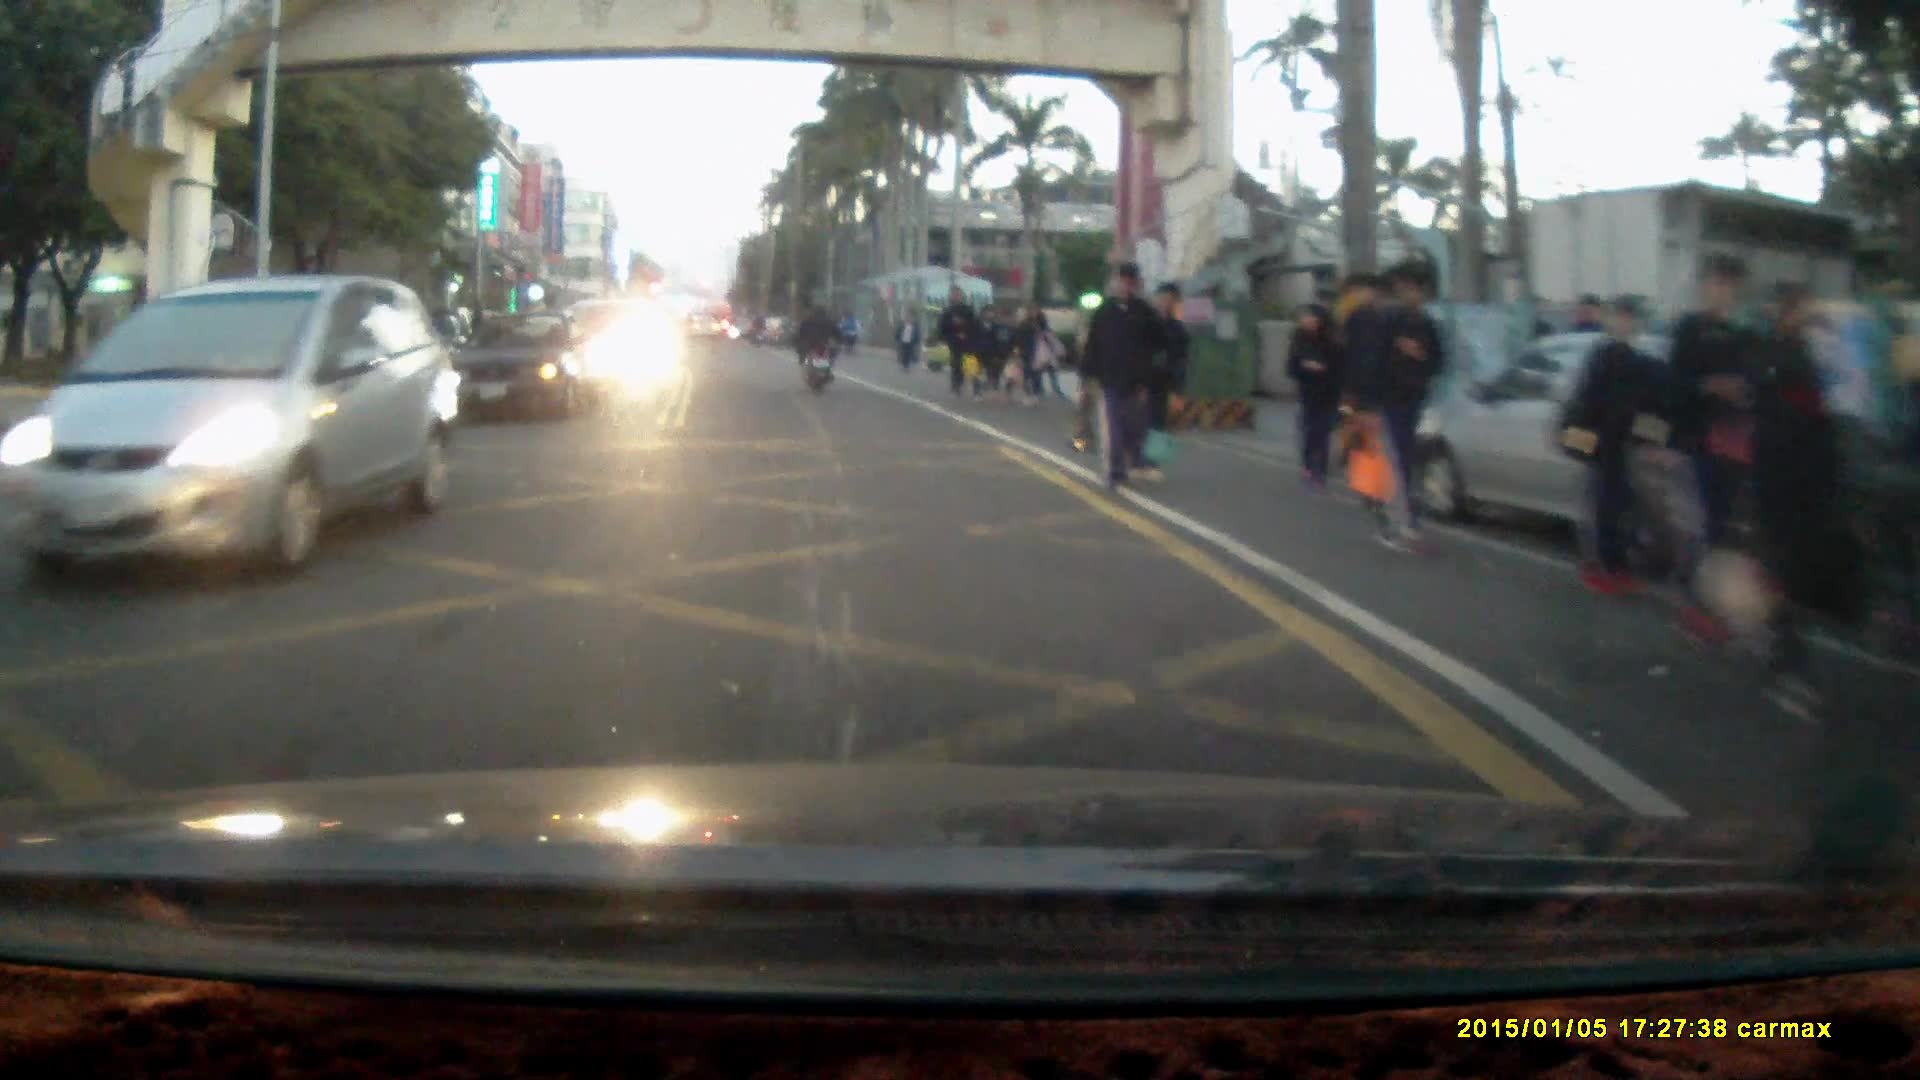pedestrian: (1659, 252, 1769, 649), (1749, 277, 1841, 723), (1575, 294, 1684, 607), (1366, 258, 1453, 556), (1078, 257, 1162, 492), (1338, 273, 1403, 508), (1130, 278, 1192, 472), (1286, 302, 1342, 498), (1015, 297, 1060, 410), (938, 281, 975, 396), (968, 297, 1006, 397), (893, 306, 920, 374)
rider: (796, 299, 840, 396)
vehicle: (9, 274, 444, 587), (1410, 323, 1843, 592), (445, 305, 611, 416)
